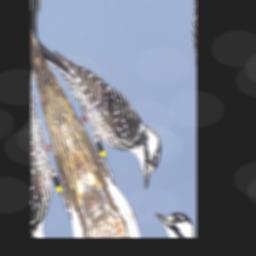Woodpecker: (35, 0, 173, 225)
